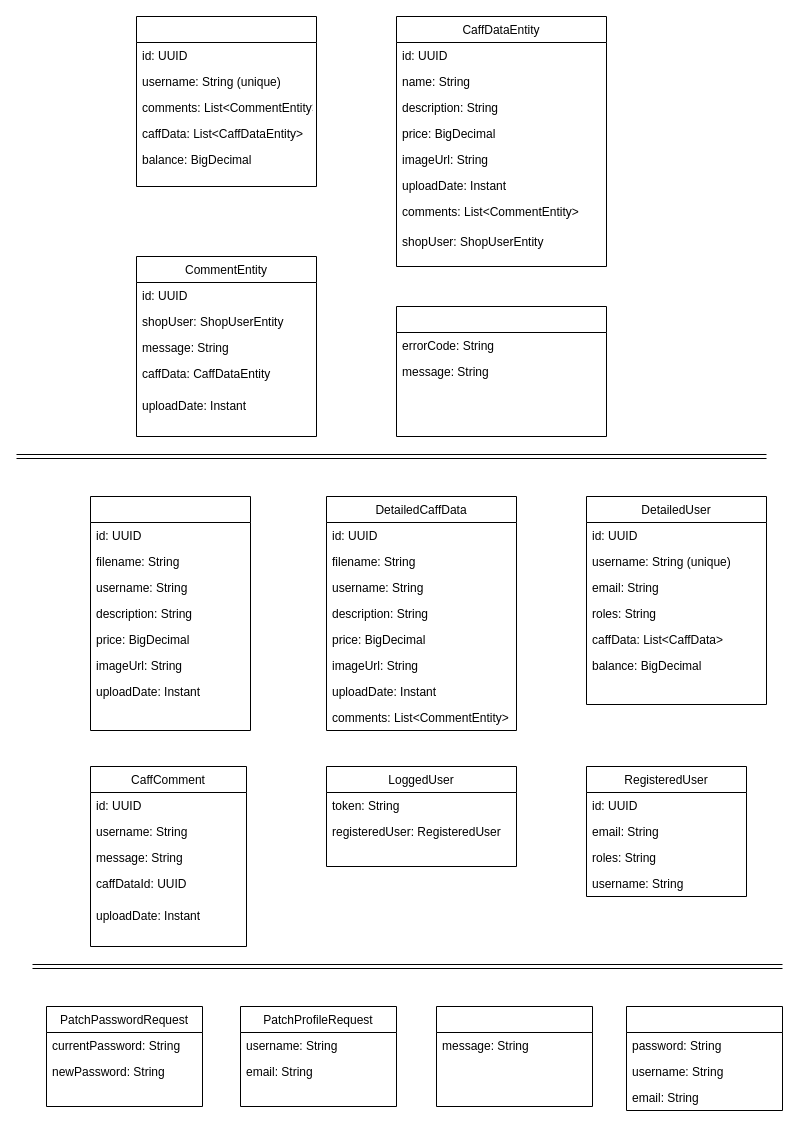
The diagram is 799 pixels wide and 1127 high, and some of its shapes have lost their labels. Each missing label, with the box of its shape:
CaffData: (90, 496, 250, 730)
ErrorMessageResponse: (396, 306, 606, 436)
PostCommentRequest: (436, 1006, 592, 1106)
PostRegistrationRequest: (626, 1006, 782, 1110)
ShopUserEntity: (136, 16, 316, 186)
